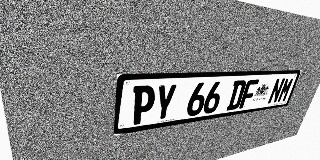6: (185, 82, 209, 117), (202, 81, 224, 114)
D: (226, 80, 247, 111)
F: (239, 79, 259, 109)
M: (276, 77, 295, 103)
N: (267, 78, 286, 104)
P: (130, 85, 157, 125)
Y: (152, 84, 178, 122)
